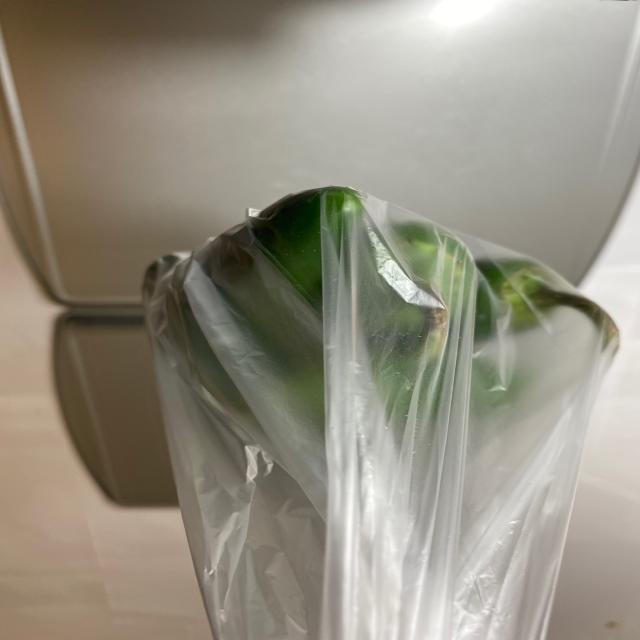chilli: (120, 183, 616, 470)
